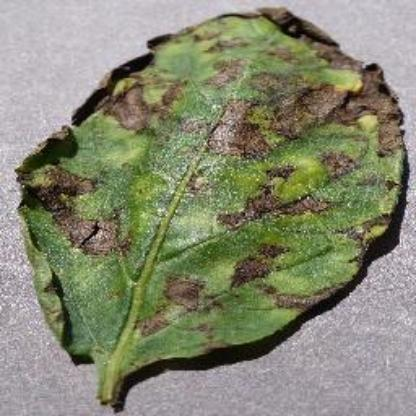Early-Blight: (14, 6, 410, 408)
